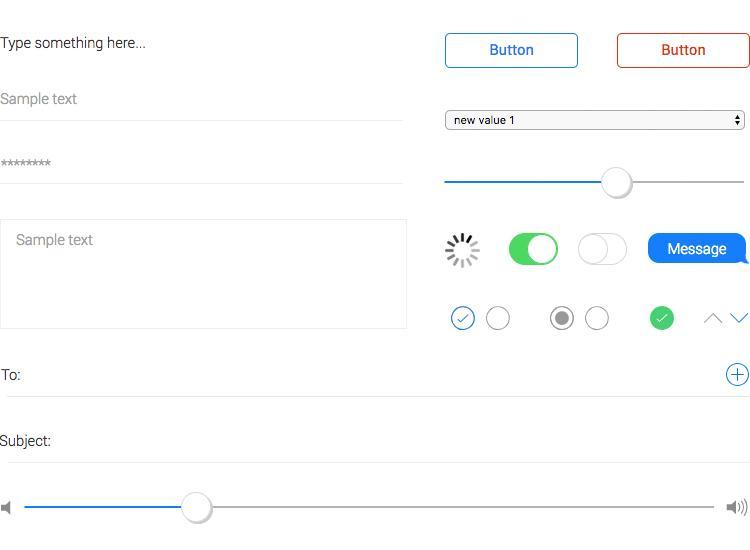button: (446, 34, 579, 71), (618, 35, 749, 69)
checkbox: (448, 306, 477, 330), (651, 307, 675, 332)
dropdown: (446, 111, 746, 132)
label: (1, 432, 55, 452), (1, 364, 24, 388)
radio: (486, 306, 514, 332), (549, 307, 578, 331), (587, 307, 611, 330)
slider: (23, 490, 718, 525), (443, 166, 748, 200)
switch: (578, 232, 629, 268), (510, 232, 559, 266)
